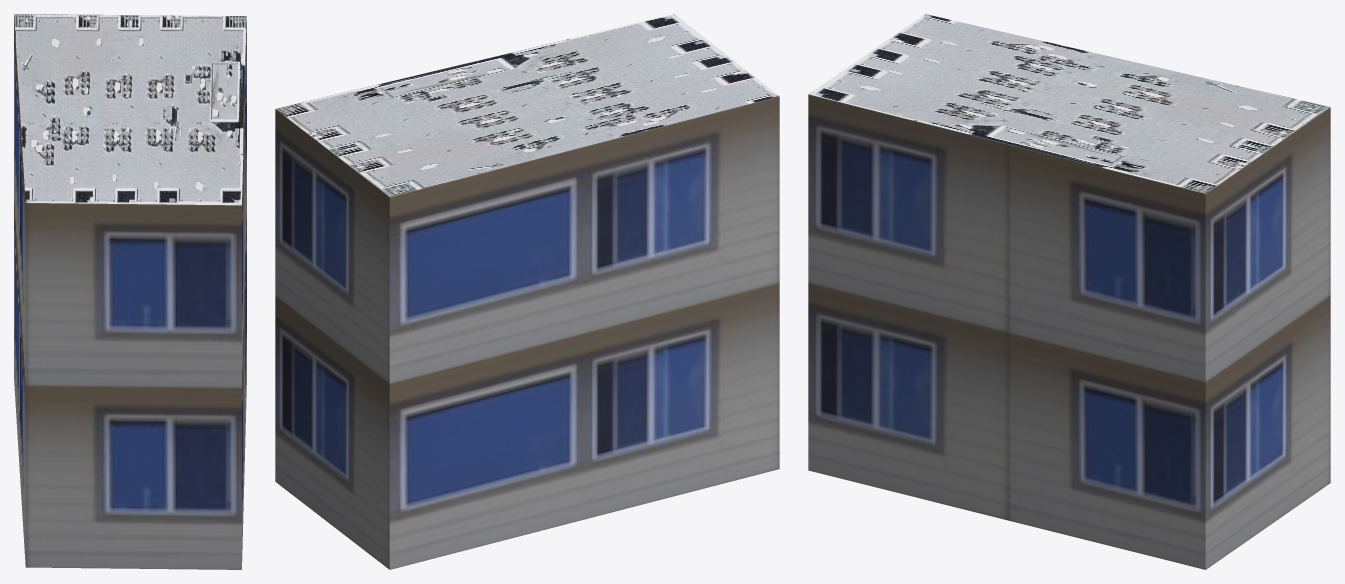
File: ResTex__2069.fbx
The picture shows the model from 3 angles, left to right: view 1: azimuth 30°, elevation 25°; view 2: azimuth 150°, elevation 25°; view 3: azimuth 270°, elevation 25°; orthographic projection. The views are drawn at different scales.
Parts seen in each view (by area): view 1: CityEngineMaterial_23_m, CityEngineMaterial_m; view 2: CityEngineMaterial_23_m, CityEngineMaterial_m; view 3: CityEngineMaterial_23_m, CityEngineMaterial_m.
Part boxes in pixels (x1=…): CityEngineMaterial_23_m: x1=14, y1=16, x2=246, y2=569; CityEngineMaterial_m: x1=14, y1=14, x2=246, y2=205; CityEngineMaterial_23_m: x1=275, y1=96, x2=779, y2=569; CityEngineMaterial_m: x1=275, y1=14, x2=779, y2=196; CityEngineMaterial_23_m: x1=808, y1=94, x2=1330, y2=569; CityEngineMaterial_m: x1=809, y1=14, x2=1329, y2=193.
Size of the model in its own units: 6.15 by 6 by 7.55.
Materials: 2 (2 with a texture image).
